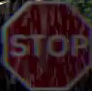Stop: (2, 0, 91, 90)
